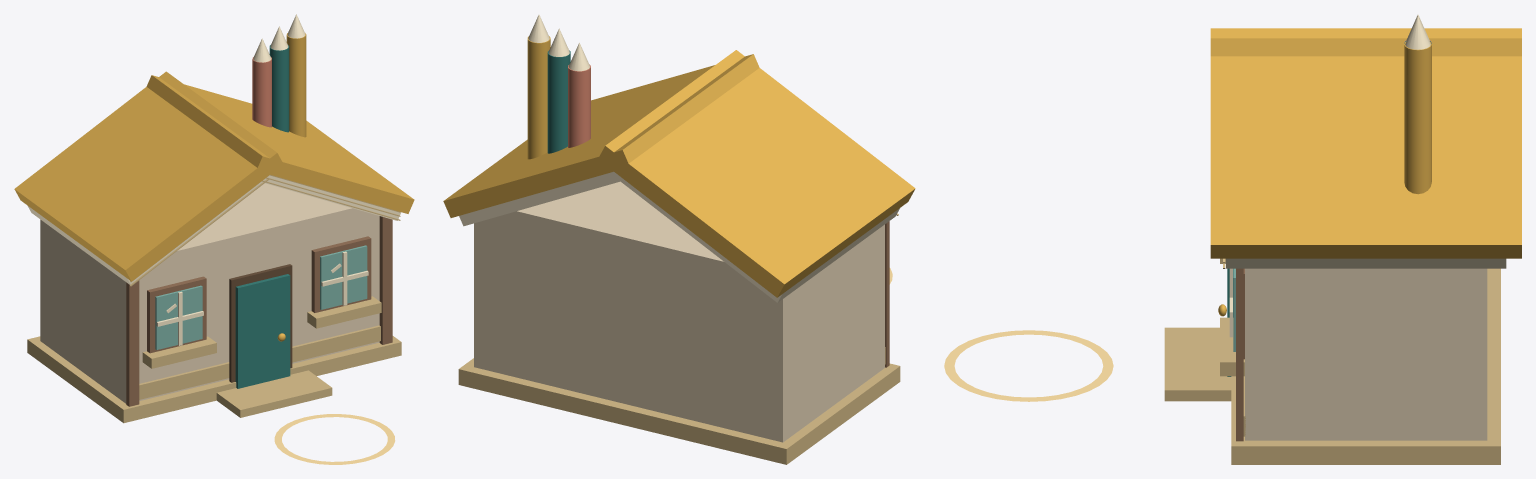
The model's file is work-studio.glb.
The picture shows the model from 3 angles, left to right: view 1: azimuth 30°, elevation 25°; view 2: azimuth 150°, elevation 25°; view 3: azimuth 270°, elevation 25°; orthographic projection. The views are drawn at different scales.
Parts seen in each view (by area): view 1: work-studio, door, chapter-marker; view 2: work-studio; view 3: work-studio, chapter-marker.
Part boxes in pixels (x1,y1,x2,y2): work-studio: (14,14,414,423); door: (235,274,290,388); chapter-marker: (274,414,394,464); work-studio: (443,14,915,464); work-studio: (1164,14,1521,464); chapter-marker: (944,330,1113,401).
Bounding box in the file's own units: 2.7 × 2.7 × 3.34.
